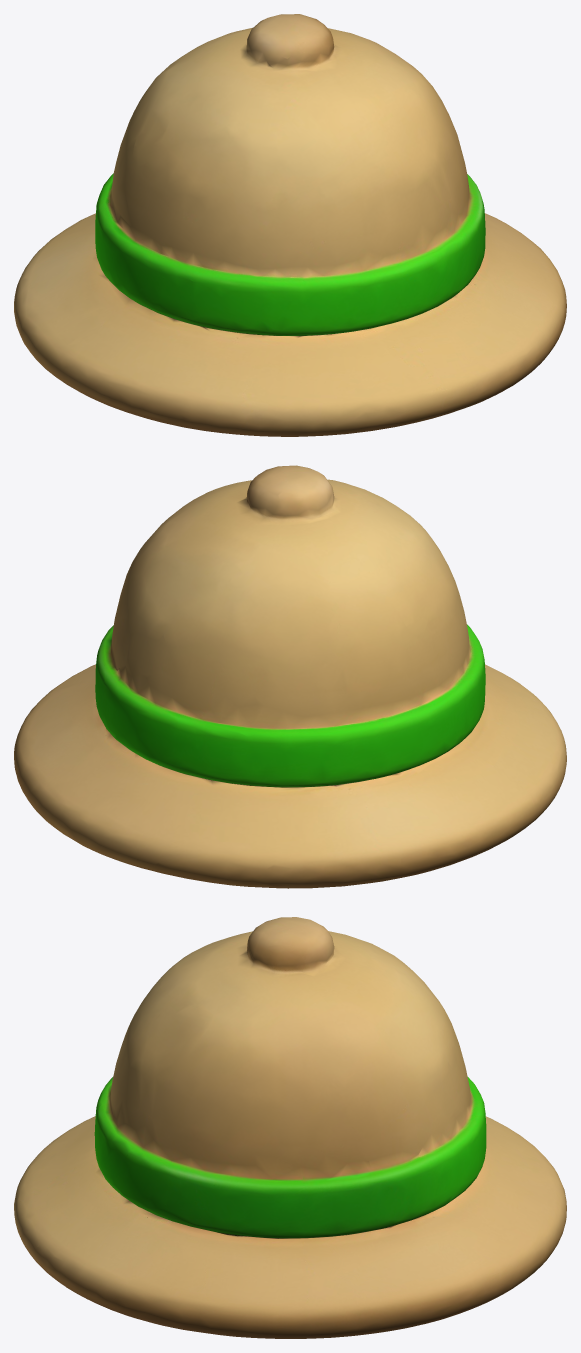
The model's file is hat-explorer.glb.
The picture shows the model from 3 angles, top to bottom: view 1: azimuth 30°, elevation 25°; view 2: azimuth 150°, elevation 25°; view 3: azimuth 270°, elevation 25°; orthographic projection.
Parts seen in each view (by area): view 1: tripo_node_09adedc1-0374-4ddd-8a5a-0661695c89e9; view 2: tripo_node_09adedc1-0374-4ddd-8a5a-0661695c89e9; view 3: tripo_node_09adedc1-0374-4ddd-8a5a-0661695c89e9.
Boxes of the visible parts, bbox=[...] form: tripo_node_09adedc1-0374-4ddd-8a5a-0661695c89e9: bbox=[14, 14, 566, 436]; tripo_node_09adedc1-0374-4ddd-8a5a-0661695c89e9: bbox=[14, 465, 566, 888]; tripo_node_09adedc1-0374-4ddd-8a5a-0661695c89e9: bbox=[14, 917, 566, 1338].
Size of the model in its own units: 1 by 0.6327 by 0.9989.
1 material, 1 textured.
